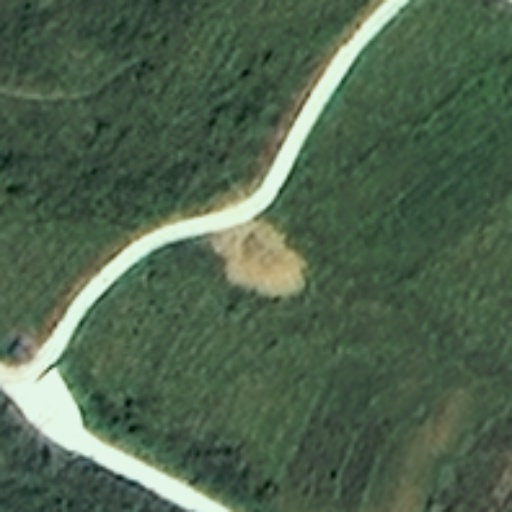landslide: (209, 225, 310, 299)
